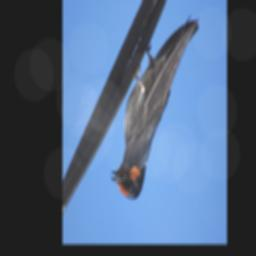Swallow: (111, 19, 200, 200)
